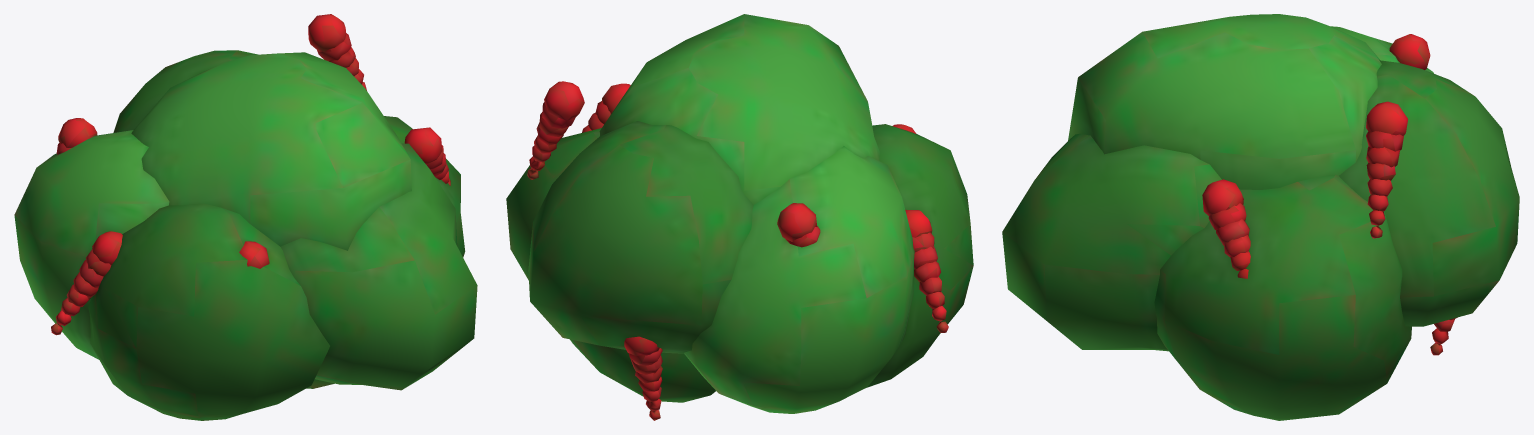
File: crop_chili.glb
3 renders of one model, left to right at view 1: azimuth 30°, elevation 25°; view 2: azimuth 150°, elevation 25°; view 3: azimuth 270°, elevation 25°, orthographic. The views are drawn at different scales.
Parts seen in each view (by area): view 1: crop_chili, fruit; view 2: crop_chili, fruit; view 3: crop_chili, fruit.
Boxes of the visible parts, box(x1,y1,x2,y2) form: crop_chili: box(14, 50, 477, 420); fruit: box(51, 14, 450, 335); crop_chili: box(506, 14, 973, 413); fruit: box(527, 81, 948, 420); crop_chili: box(1002, 14, 1519, 420); fruit: box(1202, 34, 1457, 355).
Bounding box in the file's own units: 0.2677 × 0.2091 × 0.2702.
1 material, 1 textured.
